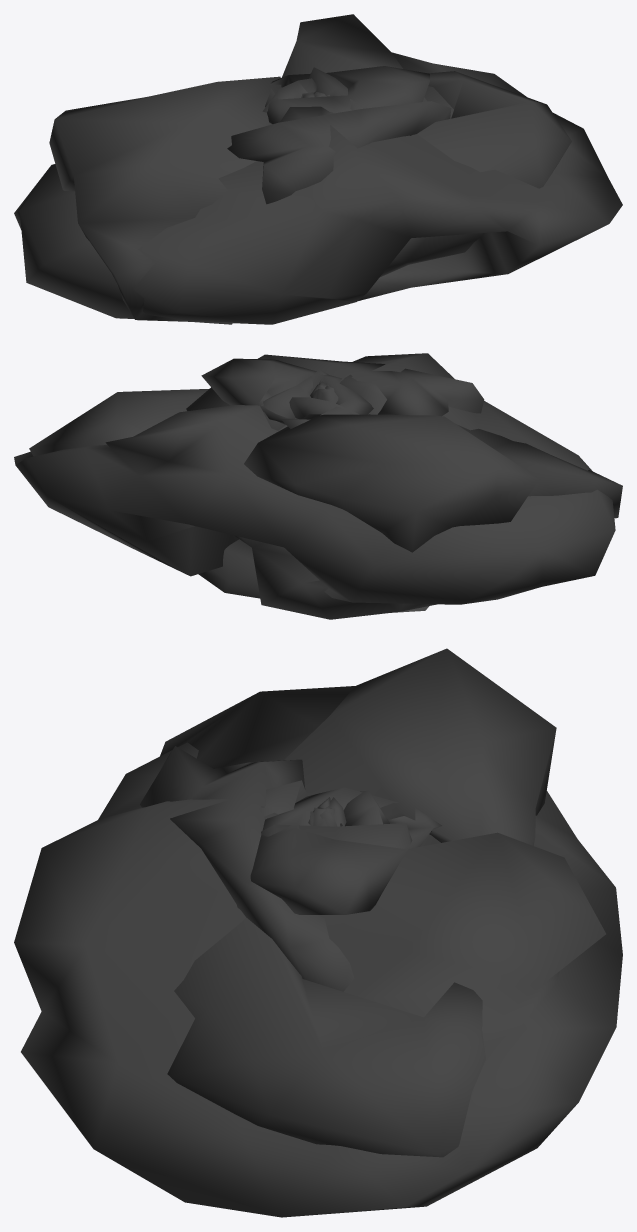
File: stones.glb
3 views of the same model, one above another, from view 1: azimuth 30°, elevation 25°; view 2: azimuth 150°, elevation 25°; view 3: azimuth 270°, elevation 25° (orthographic). The views are drawn at different scales.
Parts seen in each view (by area): view 1: reclining-0, reclining-1, strata-0, strata-1, cavern-1, spire-1, cavern-0; view 2: reclining-0, reclining-1, strata-0, strata-1, cavern-1, spire-1, cavern-0; view 3: reclining-0, reclining-1, strata-0, strata-1, cavern-1, spire-1, cavern-0.
Boxes of the visible parts, left/top/right/bottom form: reclining-0: left=14, top=14, right=622, bottom=324; reclining-1: left=49, top=71, right=571, bottom=324; strata-0: left=227, top=101, right=451, bottom=204; strata-1: left=265, top=66, right=429, bottom=123; cavern-1: left=308, top=67, right=362, bottom=110; spire-1: left=262, top=78, right=316, bottom=112; cavern-0: left=280, top=106, right=331, bottom=122; reclining-0: left=14, top=353, right=615, bottom=604; reclining-1: left=29, top=388, right=622, bottom=619; strata-0: left=186, top=354, right=484, bottom=612; strata-1: left=201, top=358, right=373, bottom=428; cavern-1: left=263, top=370, right=327, bottom=430; spire-1: left=289, top=397, right=359, bottom=419; cavern-0: left=339, top=374, right=386, bottom=414; reclining-0: left=14, top=742, right=622, bottom=1217; reclining-1: left=160, top=648, right=556, bottom=1157; strata-0: left=140, top=746, right=354, bottom=991; strata-1: left=250, top=787, right=441, bottom=914; cavern-1: left=261, top=823, right=412, bottom=848; spire-1: left=343, top=790, right=389, bottom=826; cavern-0: left=259, top=780, right=307, bottom=816.
Bounding box in the file's own units: 3.29 × 1 × 2.01.
1 material, 1 textured.
